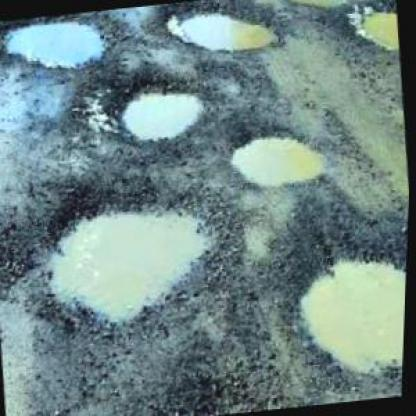pothole: (27, 170, 238, 346), (225, 115, 337, 194), (108, 68, 215, 150)
